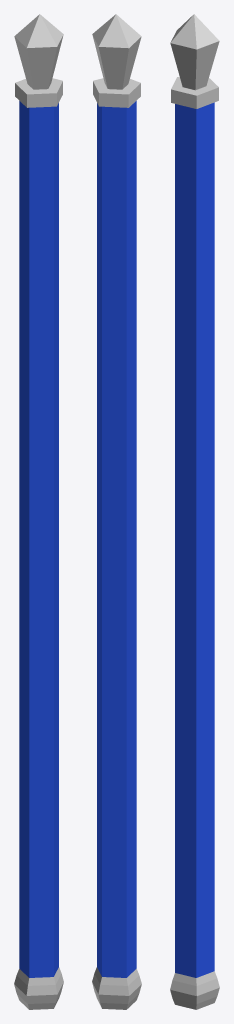
The picture shows the model from 3 angles, left to right: view 1: azimuth 90°, elevation 25°; view 2: azimuth 150°, elevation 25°; view 3: azimuth 270°, elevation 25°; orthographic projection.
Visible parts, largest first — view 1: 平面.015; view 2: 平面.015; view 3: 平面.015.
Boxes of the visible parts, x1,y1,x2,y2 form: 平面.015: [14, 14, 63, 1009]; 平面.015: [92, 14, 141, 1009]; 平面.015: [170, 14, 219, 1009].
Bounding box in the file's own units: 12.87 × 286 × 13.09.
1 material, 1 textured.
